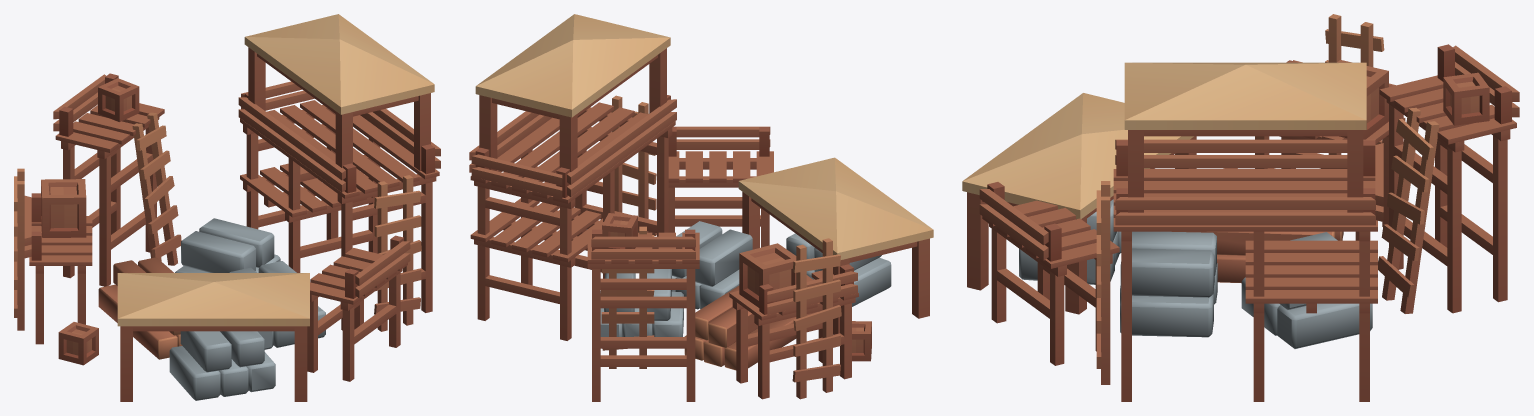
The model's file is construction-scaffolding.glb.
3 renders of one model, left to right at view 1: azimuth 30°, elevation 25°; view 2: azimuth 150°, elevation 25°; view 3: azimuth 270°, elevation 25°, orthographic. The views are drawn at different scales.
Parts seen in each view (by area): view 1: building_scaffolding; view 2: building_scaffolding; view 3: building_scaffolding.
Part boxes in pixels (box(x1,y1,x2,y2)): building_scaffolding: box(14, 14, 440, 401); building_scaffolding: box(469, 14, 933, 401); building_scaffolding: box(962, 14, 1519, 401).
Size of the model in its own units: 1.9 by 1.3 by 2.11.
Materials: 1 (1 with a texture image).
